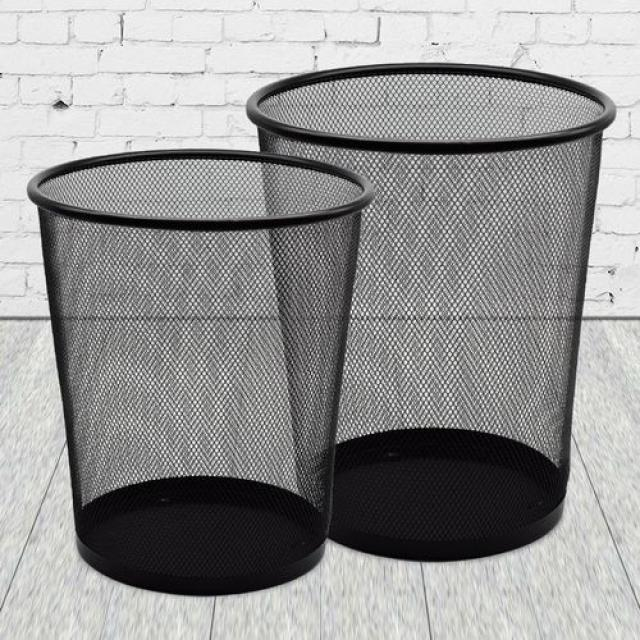dustbin: (247, 61, 618, 565), (25, 146, 373, 602)
